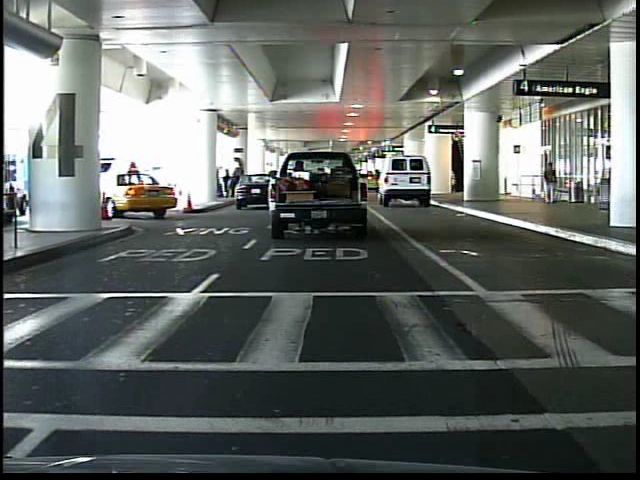person: (539, 157, 559, 209)
